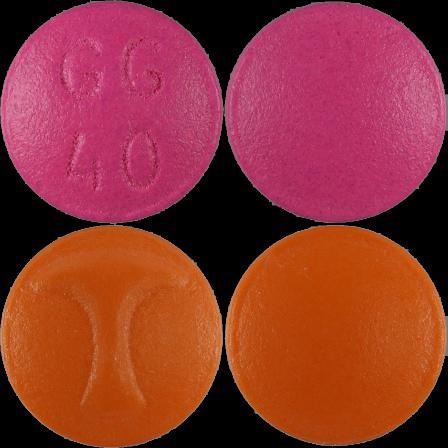52959-008: (0, 0, 224, 224)
